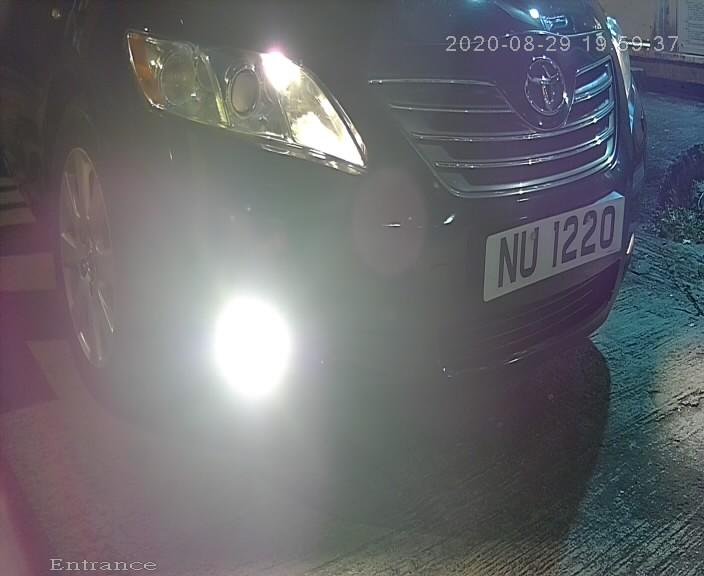License Plate: (484, 186, 629, 309)
